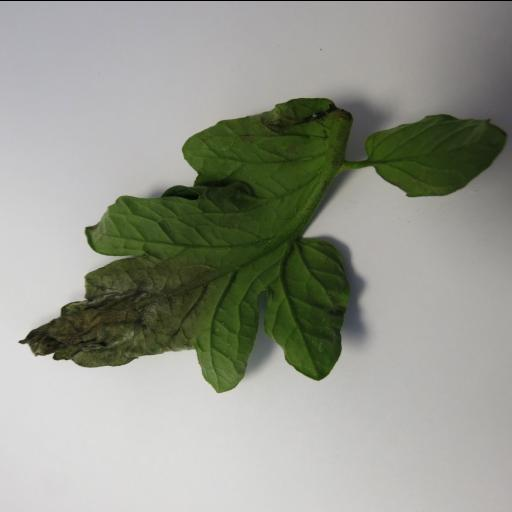disease_tomato: (12, 78, 353, 398)
